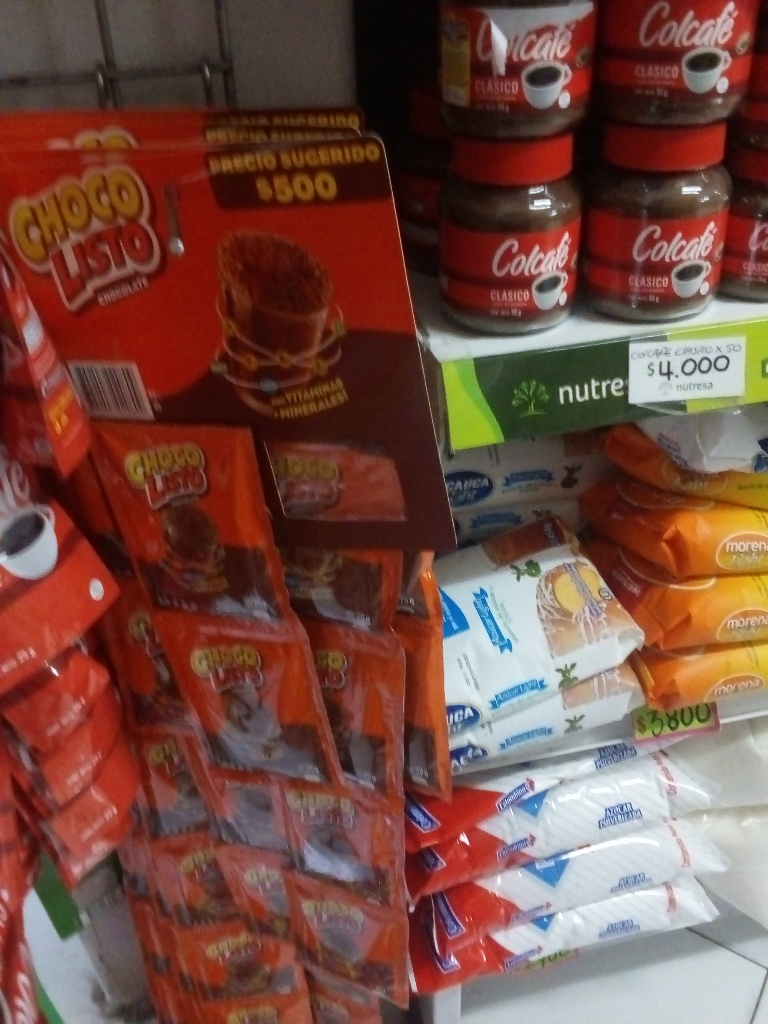COL0170103SOB02000: (102, 422, 284, 633)
